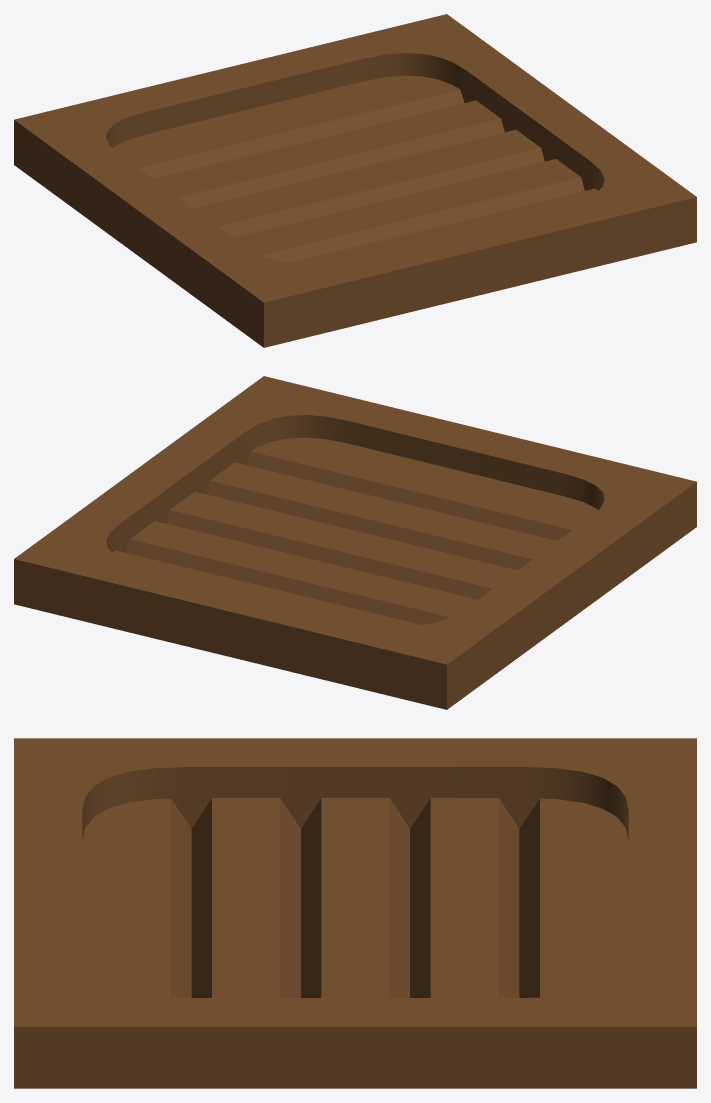
Rendered from Ceiling_B_1x1m.FBX.
The picture shows the model from 3 angles, top to bottom: view 1: azimuth 30°, elevation 25°; view 2: azimuth 150°, elevation 25°; view 3: azimuth 270°, elevation 25°; orthographic projection. The views are drawn at different scales.
Parts seen in each view (by area): view 1: Ceiling_B_1x1m; view 2: Ceiling_B_1x1m; view 3: Ceiling_B_1x1m.
Part boxes in pixels (x1,y1,x2,y2): Ceiling_B_1x1m: [14, 14, 696, 347]; Ceiling_B_1x1m: [14, 376, 696, 709]; Ceiling_B_1x1m: [14, 738, 696, 1088].
Bounding box in the file's own units: 100 × 10 × 100.
